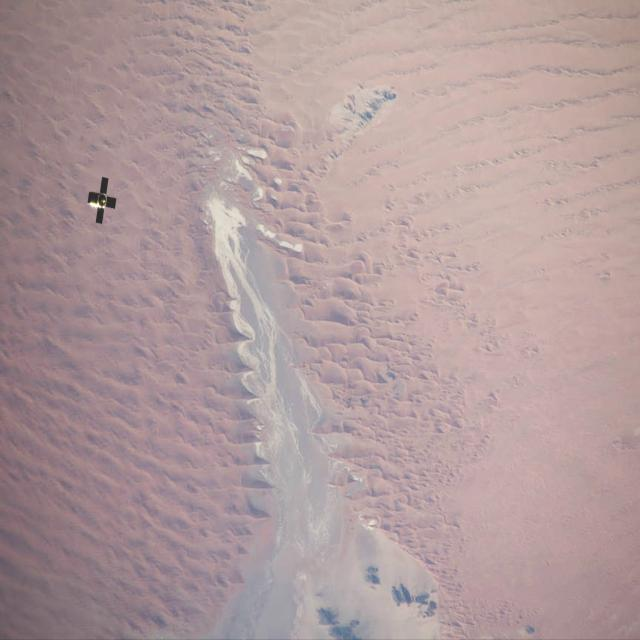satellite: (79, 178, 128, 229)
